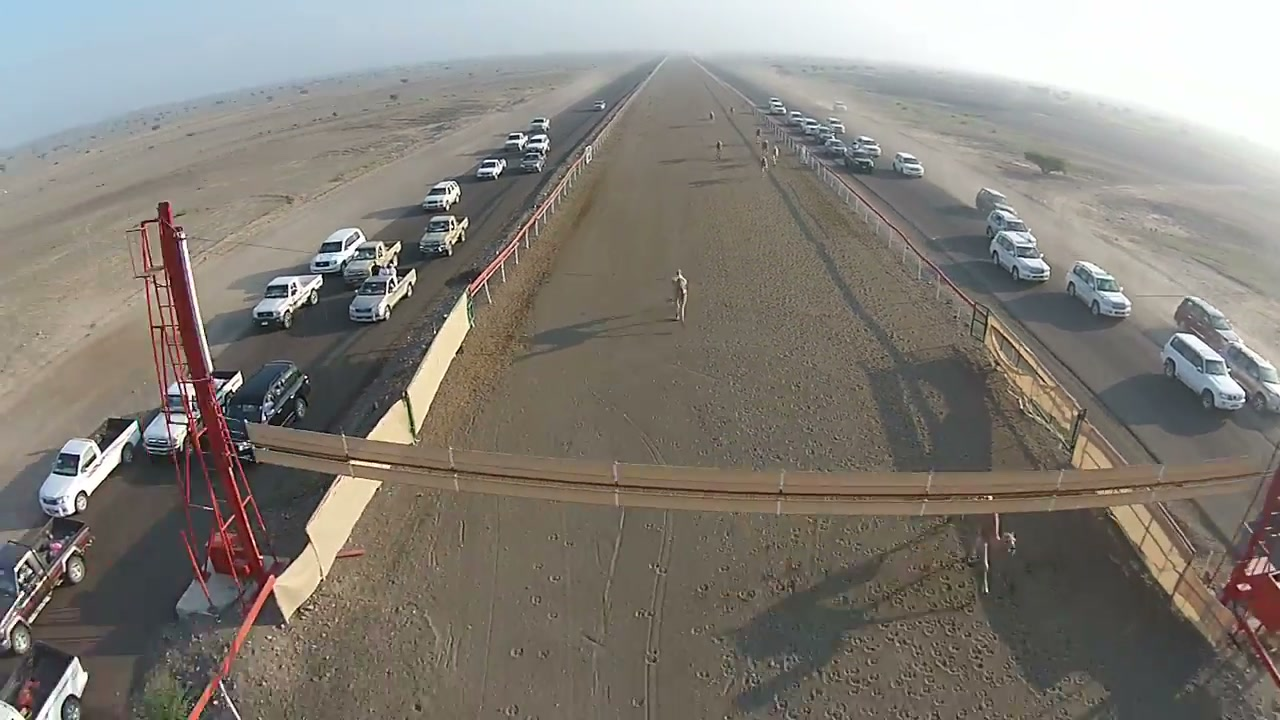animal_footprint: (786, 618, 1055, 719), (615, 515, 742, 711), (500, 526, 593, 717)
